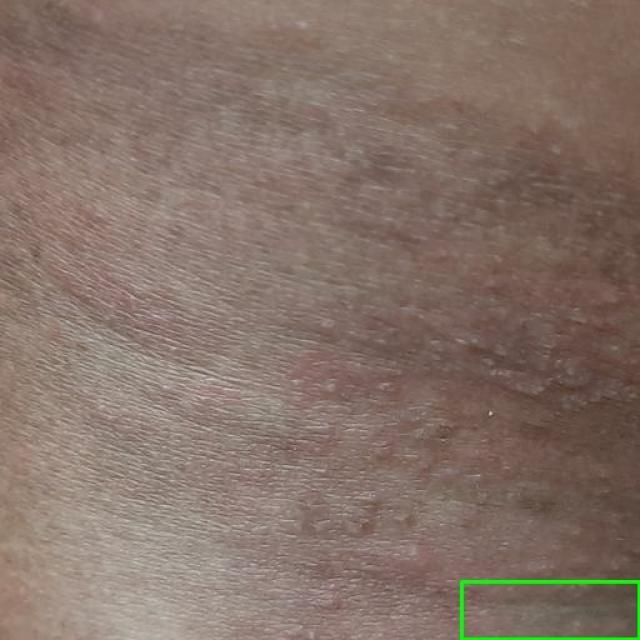Tinea Corporis: (461, 581, 639, 639)
